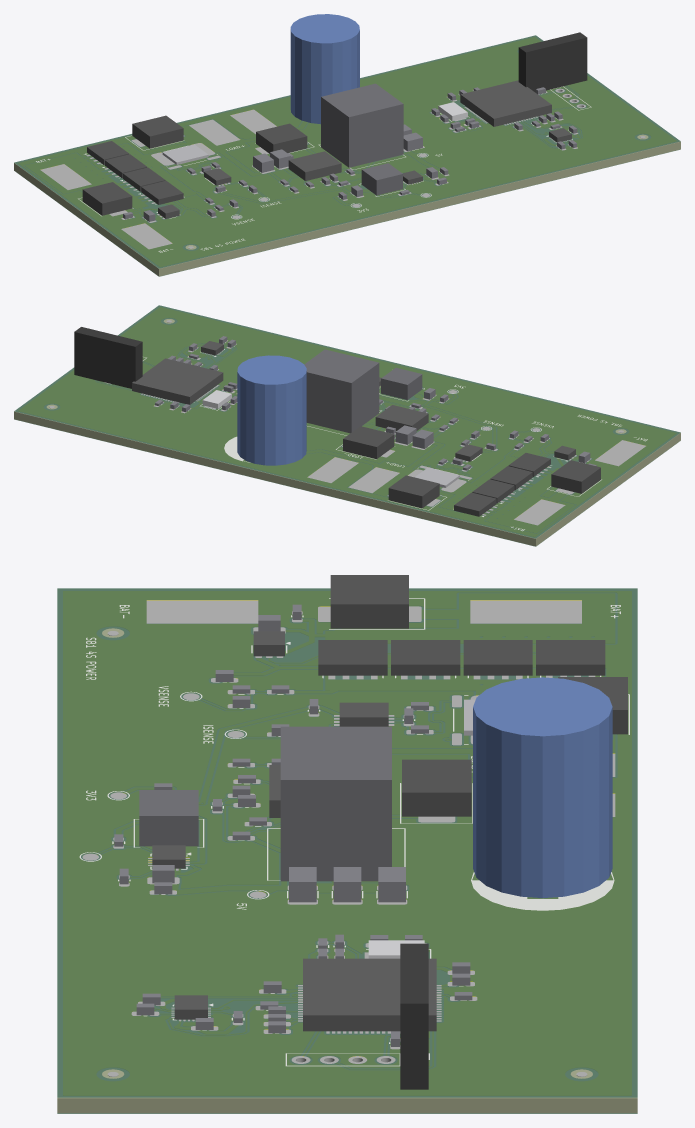
The model's file is ee_flight_v19_pcba.glb.
3 renders of one model, top to bottom at view 1: azimuth 30°, elevation 25°; view 2: azimuth 150°, elevation 25°; view 3: azimuth 270°, elevation 25°, orthographic. The views are drawn at different scales.
Visible parts, largest first — view 1: =>[0:1:1:6], =>[0:1:1:2], =>[0:1:1:8], pcba_inductor, pcba_cap-tht, pcba_ic, =>[0:1:1:3], pcba_diode, pcba_passive, pcba_connector, pcba_fet, =>[0:1:1:5] (+2 smaller); view 2: =>[0:1:1:6], =>[0:1:1:2], =>[0:1:1:8], pcba_cap-tht, pcba_inductor, pcba_ic, =>[0:1:1:3], pcba_diode, pcba_connector, pcba_passive, pcba_fet, =>[0:1:1:5] (+3 smaller); view 3: =>[0:1:1:6], =>[0:1:1:2], pcba_cap-tht, =>[0:1:1:8], pcba_inductor, pcba_ic, =>[0:1:1:3], pcba_passive, pcba_fet, pcba_diode, =>[0:1:1:5], pcba_connector.
Boxes of the visible parts, bbox=[...] form: =>[0:1:1:6]: bbox=[14, 35, 680, 268]; =>[0:1:1:2]: bbox=[19, 37, 675, 266]; =>[0:1:1:8]: bbox=[14, 36, 680, 276]; pcba_inductor: bbox=[321, 83, 403, 195]; pcba_cap-tht: bbox=[290, 14, 359, 124]; pcba_ic: bbox=[158, 80, 571, 218]; =>[0:1:1:3]: bbox=[40, 88, 645, 249]; pcba_diode: bbox=[82, 115, 307, 215]; pcba_passive: bbox=[123, 87, 577, 221]; pcba_connector: bbox=[518, 32, 587, 92]; pcba_fet: bbox=[87, 141, 183, 204]; =>[0:1:1:5]: bbox=[36, 86, 591, 252]; =>[0:1:1:6]: bbox=[14, 305, 680, 538]; =>[0:1:1:2]: bbox=[19, 307, 675, 536]; =>[0:1:1:8]: bbox=[14, 306, 680, 546]; pcba_cap-tht: bbox=[237, 355, 306, 465]; pcba_inductor: bbox=[304, 349, 422, 433]; pcba_ic: bbox=[132, 341, 575, 461]; =>[0:1:1:3]: bbox=[49, 320, 645, 525]; pcba_diode: bbox=[343, 426, 600, 508]; pcba_connector: bbox=[74, 327, 142, 388]; pcba_passive: bbox=[155, 336, 596, 470]; pcba_fet: bbox=[454, 453, 550, 516]; =>[0:1:1:5]: bbox=[104, 342, 647, 531]; =>[0:1:1:6]: bbox=[57, 588, 637, 1097]; =>[0:1:1:2]: bbox=[63, 591, 631, 1095]; pcba_cap-tht: bbox=[473, 677, 612, 898]; =>[0:1:1:8]: bbox=[57, 589, 637, 1113]; pcba_inductor: bbox=[139, 726, 391, 881]; pcba_ic: bbox=[152, 631, 436, 1031]; =>[0:1:1:3]: bbox=[82, 600, 615, 1076]; pcba_passive: bbox=[114, 604, 472, 1046]; pcba_fet: bbox=[318, 640, 605, 675]; pcba_diode: bbox=[330, 575, 627, 816]; =>[0:1:1:5]: bbox=[79, 598, 629, 1066]; pcba_connector: bbox=[400, 943, 428, 1089].
Size of the model in its own units: 0.108 by 0.0176 by 0.052.
